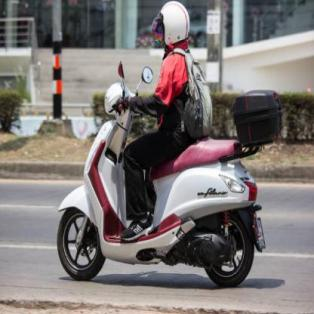Motocicleta: (52, 78, 268, 284)
